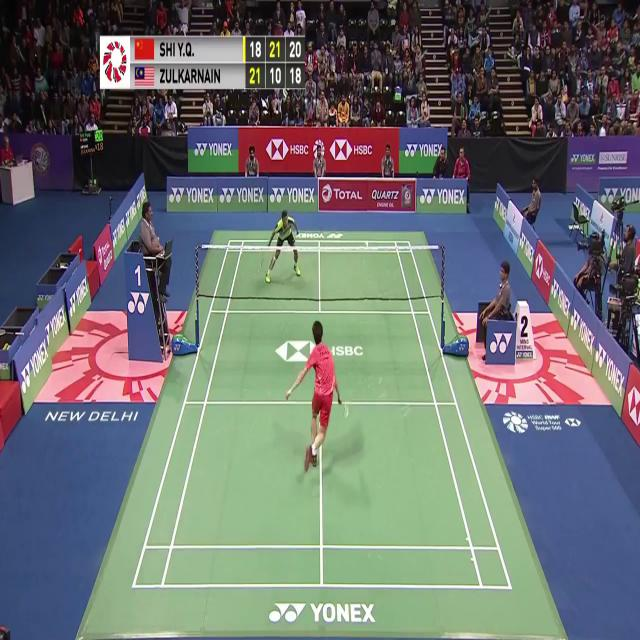Shuttlecock: (363, 240, 370, 252)
